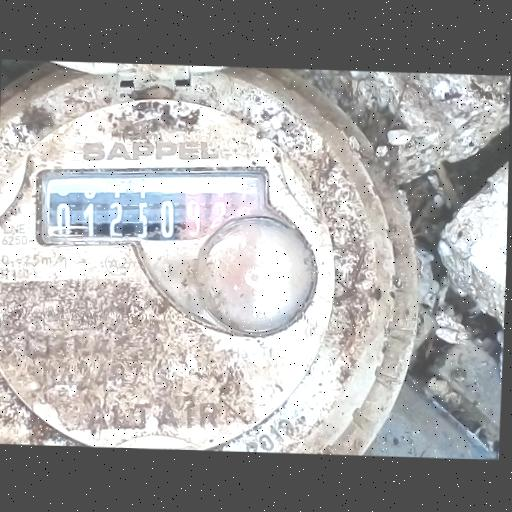0: (150, 191, 181, 243), (49, 192, 77, 237)
1: (74, 191, 103, 240)
2: (206, 192, 235, 236), (101, 192, 128, 239)
5: (124, 192, 154, 240)
9: (180, 192, 209, 240)
border_water_meter_number: (34, 159, 273, 253)
